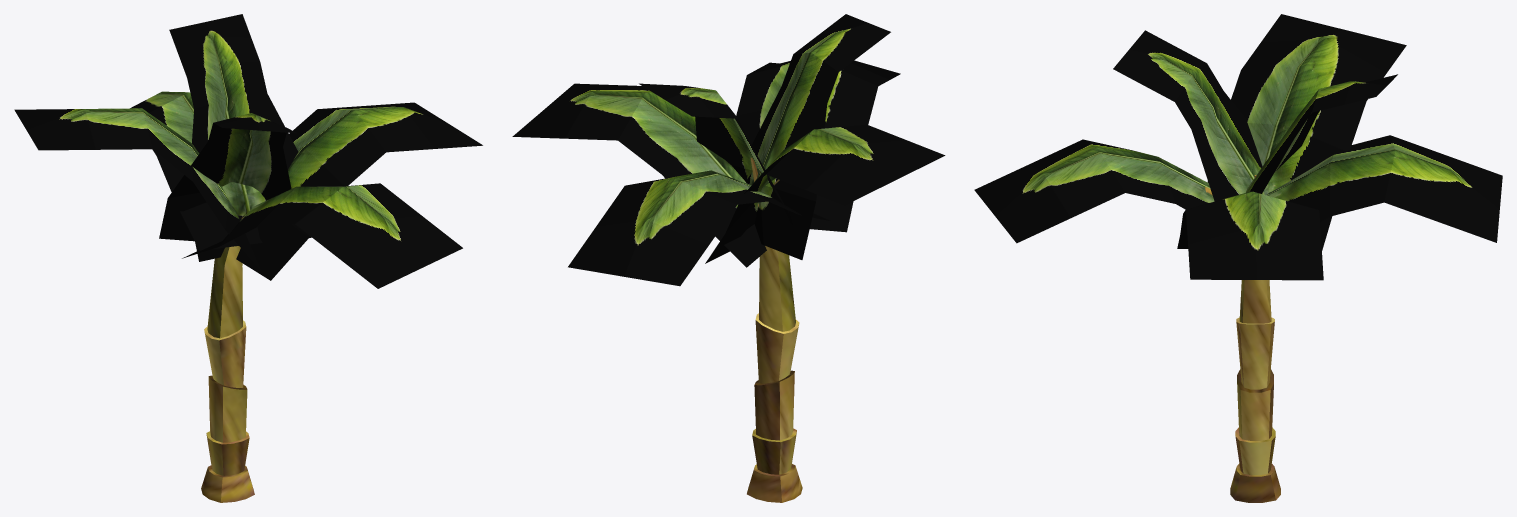
The model's file is wd_pohonpisang_001.fbx.
3 views of the same model, side by side, from view 1: azimuth 30°, elevation 25°; view 2: azimuth 150°, elevation 25°; view 3: azimuth 270°, elevation 25° (orthographic). The views are drawn at different scales.
Visible parts, largest first — view 1: Cube; view 2: Cube; view 3: Cube.
Boxes of the visible parts, left/top/right/bottom form: Cube: left=14, top=14, right=482, bottom=502; Cube: left=512, top=14, right=945, bottom=502; Cube: left=974, top=14, right=1502, bottom=502.
Bounding box in the file's own units: 7.28 × 7.23 × 8.02.
2 materials, 2 textured.
